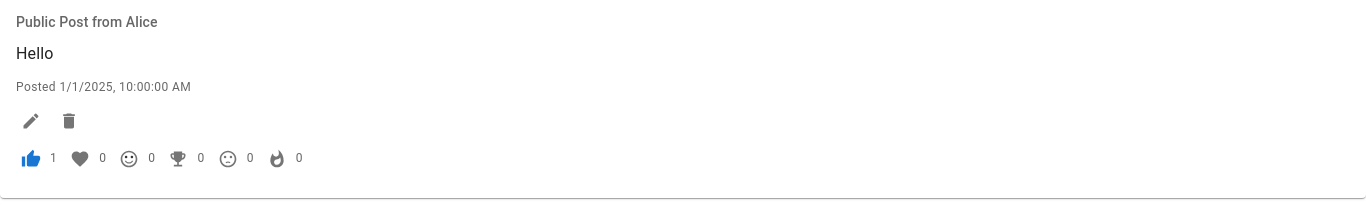
PostCard › toggles reaction off with DELETE
The image size is (1366, 217).
Click the button named "Like".
click(31, 159)  # box [16,144,46,174]
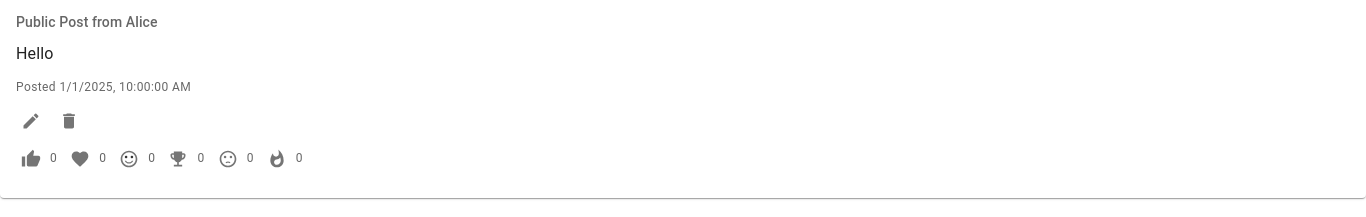
Now the 1st text "0" is shown, box [50,149,57,169]
